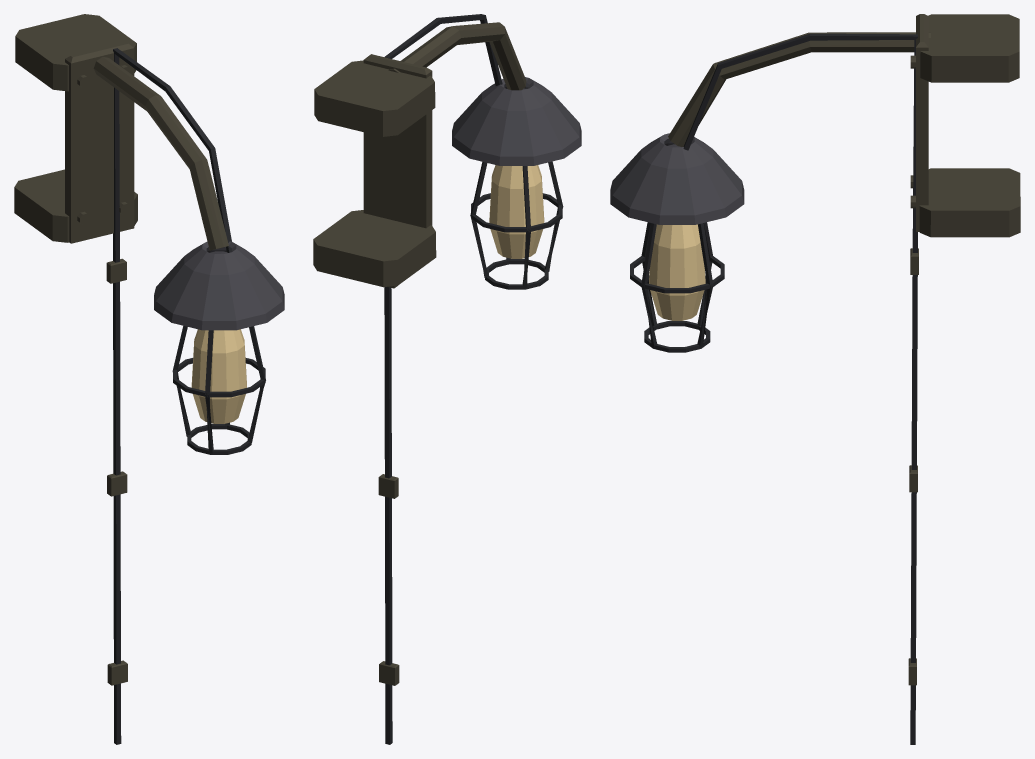
Rendered from SM_Street_PoleWorkLamp_01.fbx.
3 renders of one model, left to right at view 1: azimuth 30°, elevation 25°; view 2: azimuth 150°, elevation 25°; view 3: azimuth 270°, elevation 25°, orthographic. The views are drawn at different scales.
Parts seen in each view (by area): view 1: SM_Street_PoleWorkLamp_01; view 2: SM_Street_PoleWorkLamp_01; view 3: SM_Street_PoleWorkLamp_01.
Boxes of the visible parts, <box> form: SM_Street_PoleWorkLamp_01: <box>14,14,284,744</box>; SM_Street_PoleWorkLamp_01: <box>313,14,581,744</box>; SM_Street_PoleWorkLamp_01: <box>610,14,1020,744</box>.
Bounding box in the file's own units: 0.2511 × 1.47 × 0.7703.
Materials: 1 (1 with a texture image).
